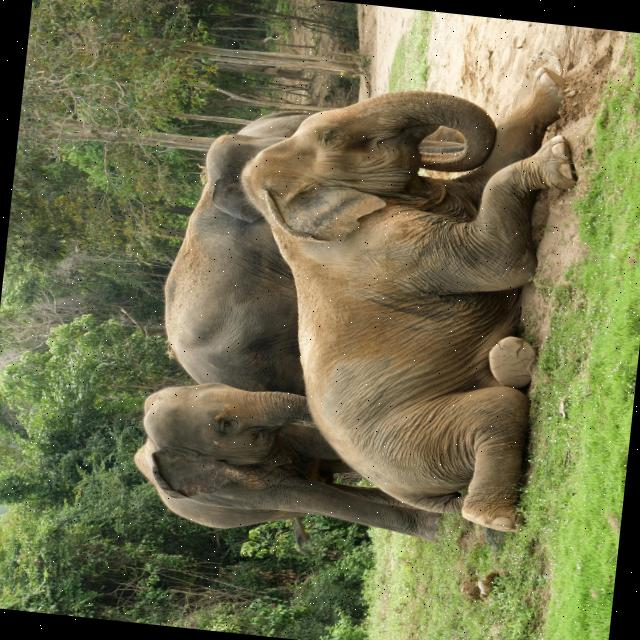Elephant: (207, 35, 588, 534), (151, 128, 481, 438), (124, 374, 453, 550)
